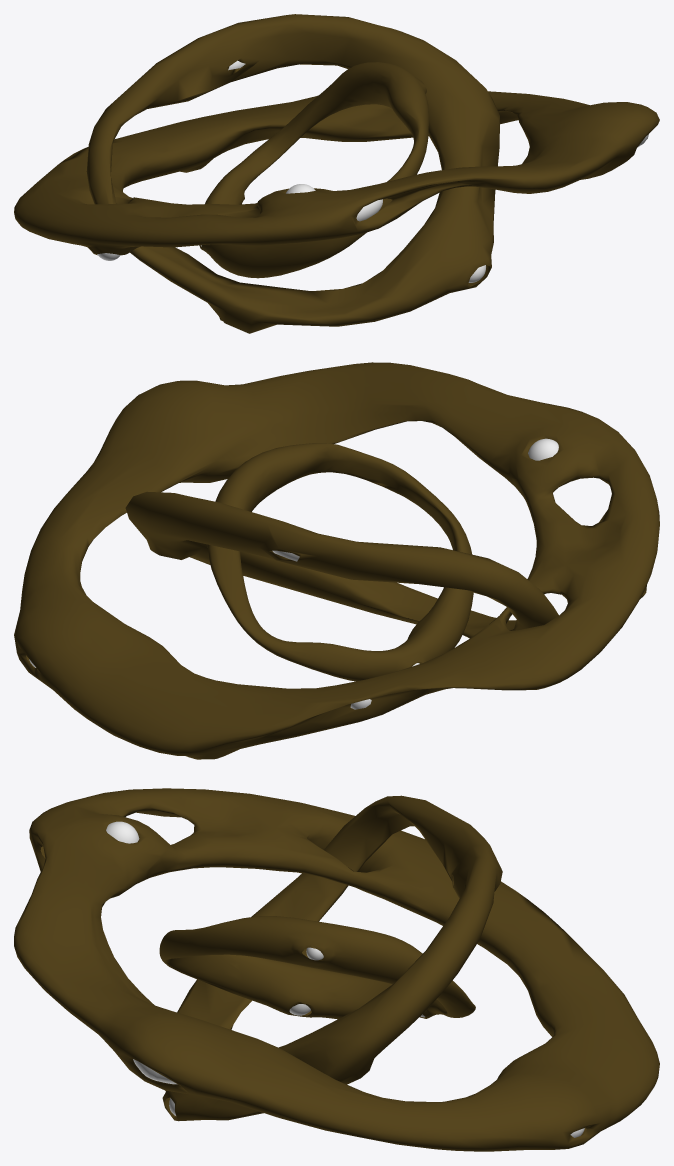
File: ringostarr.fbx
3 views of the same model, one above another, from view 1: azimuth 30°, elevation 25°; view 2: azimuth 150°, elevation 25°; view 3: azimuth 270°, elevation 25° (orthographic). The views are drawn at different scales.
Parts seen in each view (by area): view 1: Torus.002, Torus, Torus.001, Sphere.014; view 2: Torus.002, Torus, Torus.001, Sphere.014; view 3: Torus.002, Torus, Torus.001, Sphere.014.
Part boxes in pixels (bbox=[...]): Torus.002: bbox=[14, 91, 659, 255]; Torus: bbox=[86, 14, 499, 333]; Torus.001: bbox=[199, 62, 428, 278]; Sphere.014: bbox=[97, 134, 648, 260]; Torus.002: bbox=[14, 362, 659, 759]; Torus: bbox=[125, 491, 558, 638]; Torus.001: bbox=[207, 443, 473, 681]; Sphere.014: bbox=[29, 438, 558, 709]; Torus.002: bbox=[14, 788, 659, 1151]; Torus: bbox=[162, 795, 502, 1121]; Torus.001: bbox=[159, 916, 475, 1019]; Sphere.014: bbox=[106, 821, 584, 1137].
Size of the model in its own units: 694 by 237 by 637.
